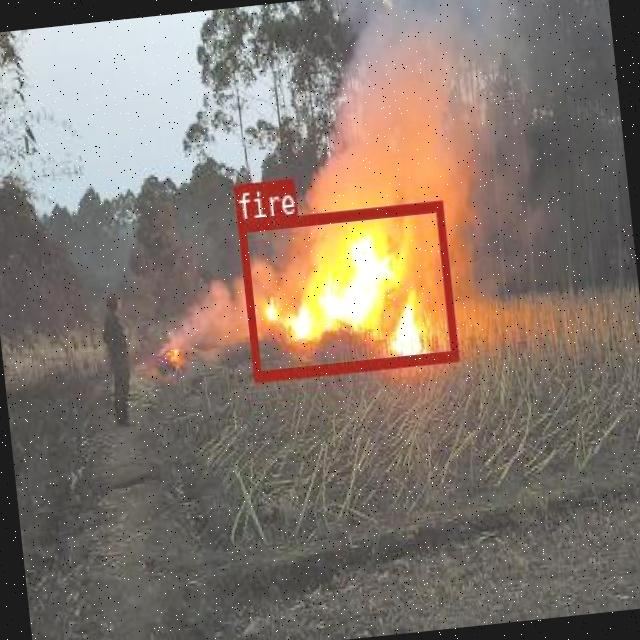fire: (237, 198, 458, 380)
